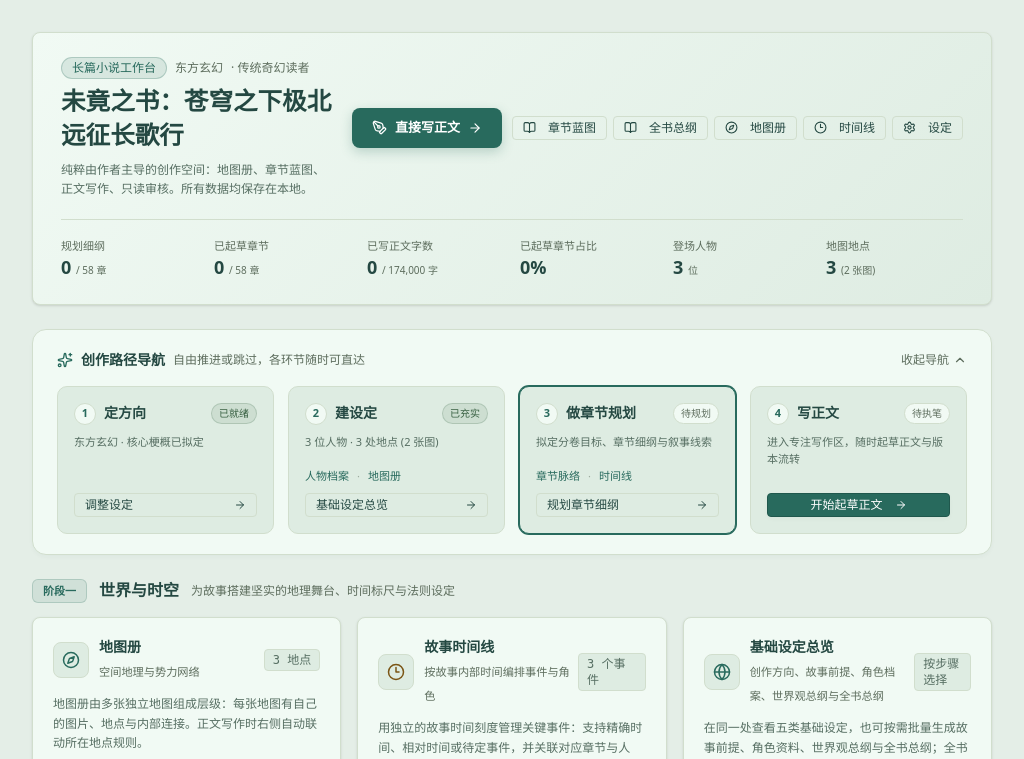
it: 工作台首页与项目总览视觉渲染与截图 › 渲染并截图项目总览（含 4 步创作阶梯、真实指标与阶段分组）
Click the button with class "literary-hero-primary-btn". click: (427, 128)
box: [352,108,502,148]
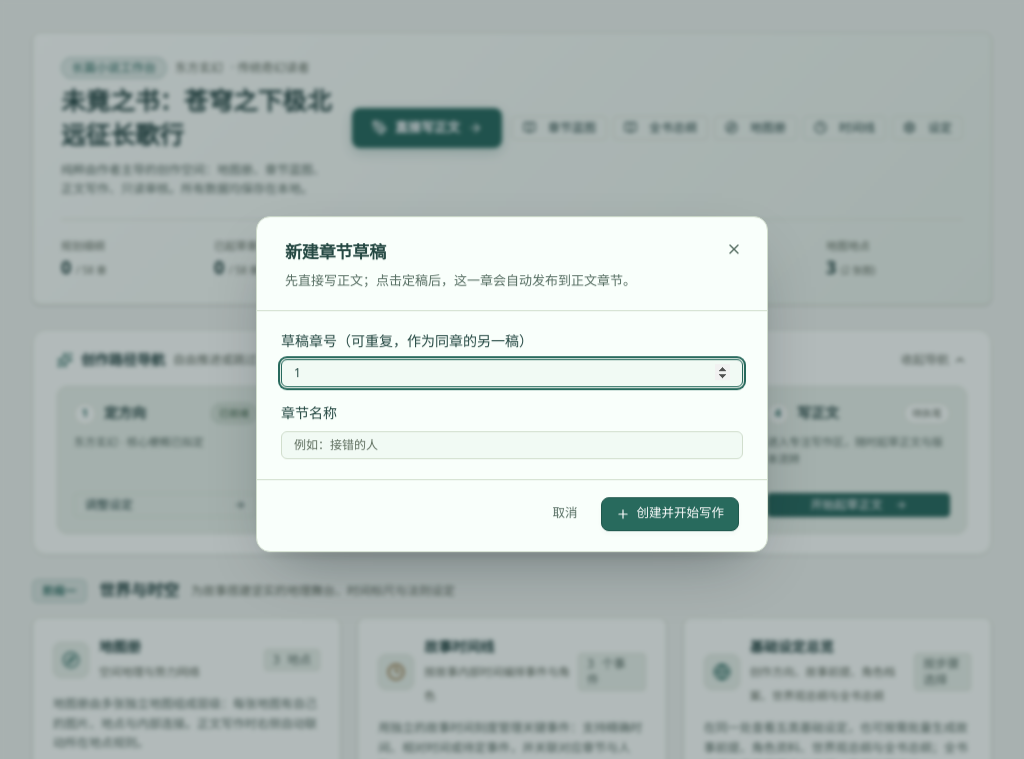
expect the dialog shows "新建章节草稿": met, box [285,240,386,263]
